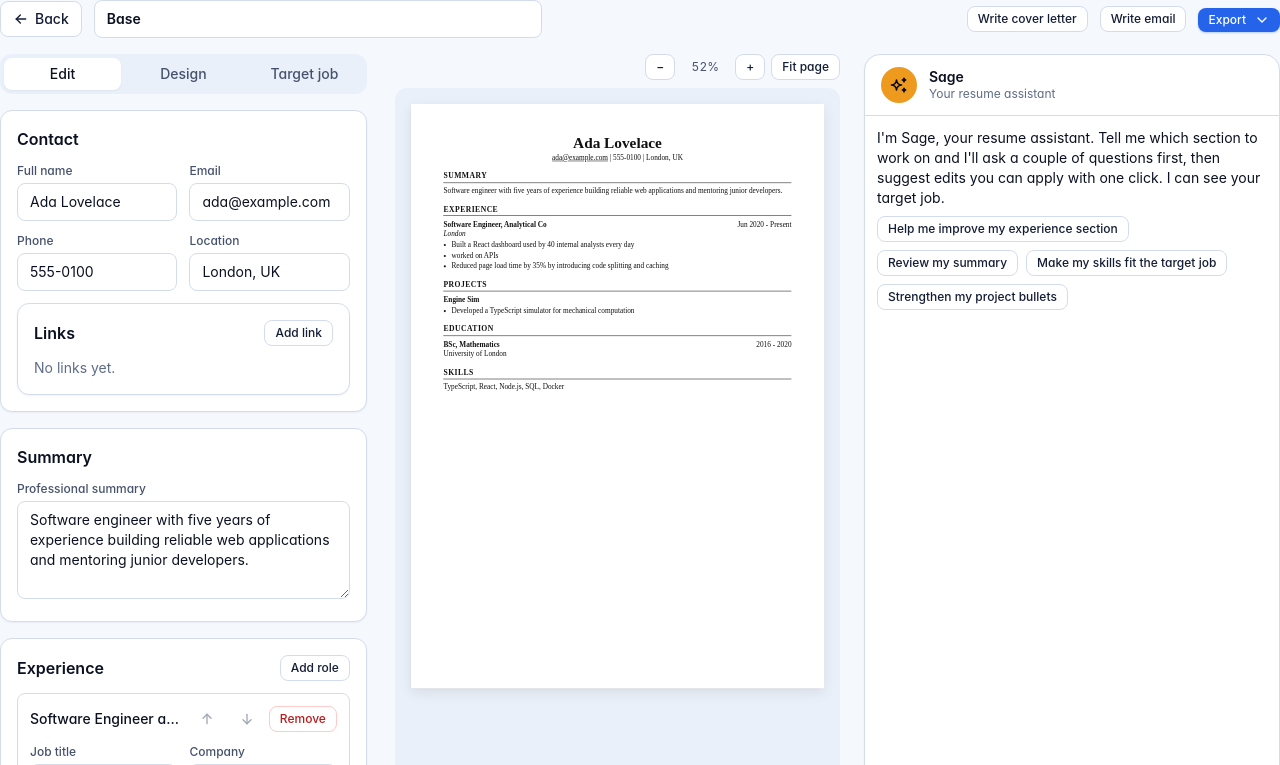
Scenario: target job tab › groups ATS analysis and Tailor under one Target job tab with a single job form
Expected: the button "Tailor" is not shown
Expected: the picture "ATS score" is not shown
Click the button "Target job" at (304, 74), box [246, 58, 363, 90]
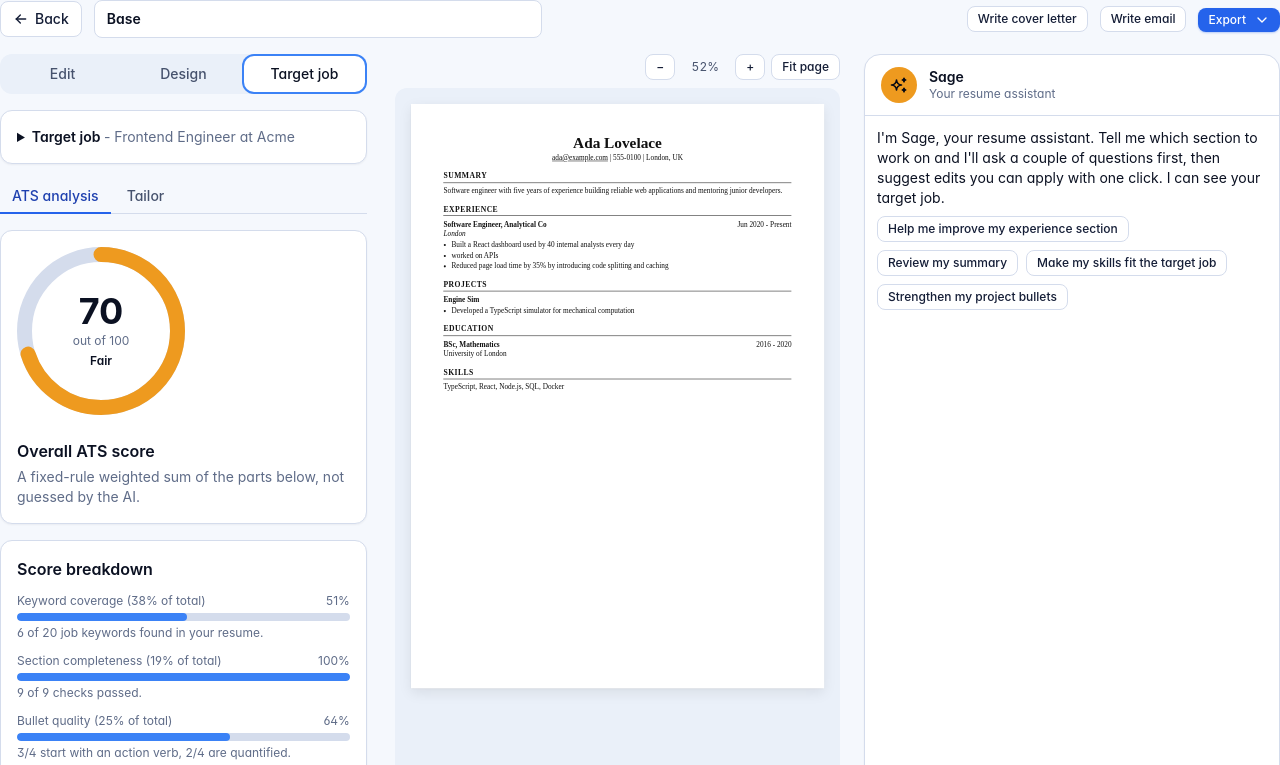
Click the button "Tailor" at (145, 197), box [115, 180, 176, 214]
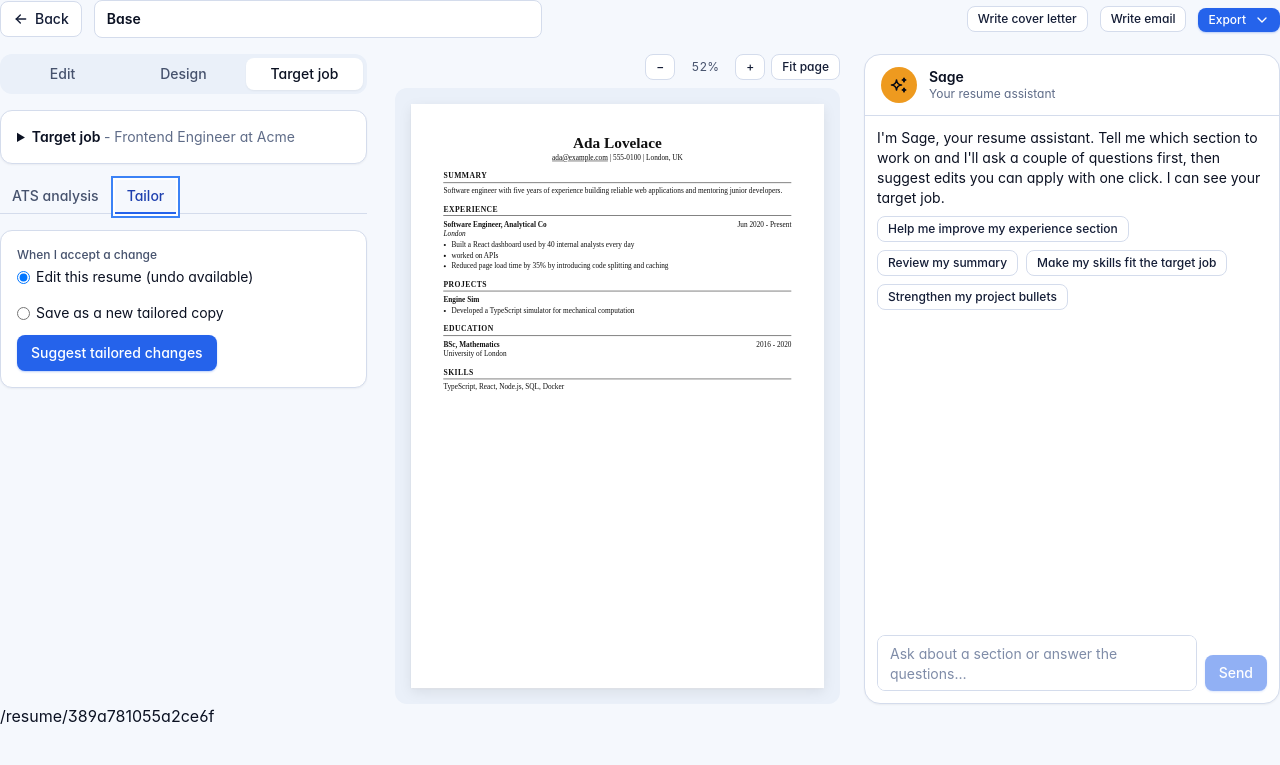
Click the button "ATS analysis" at (55, 197), box [0, 180, 111, 214]
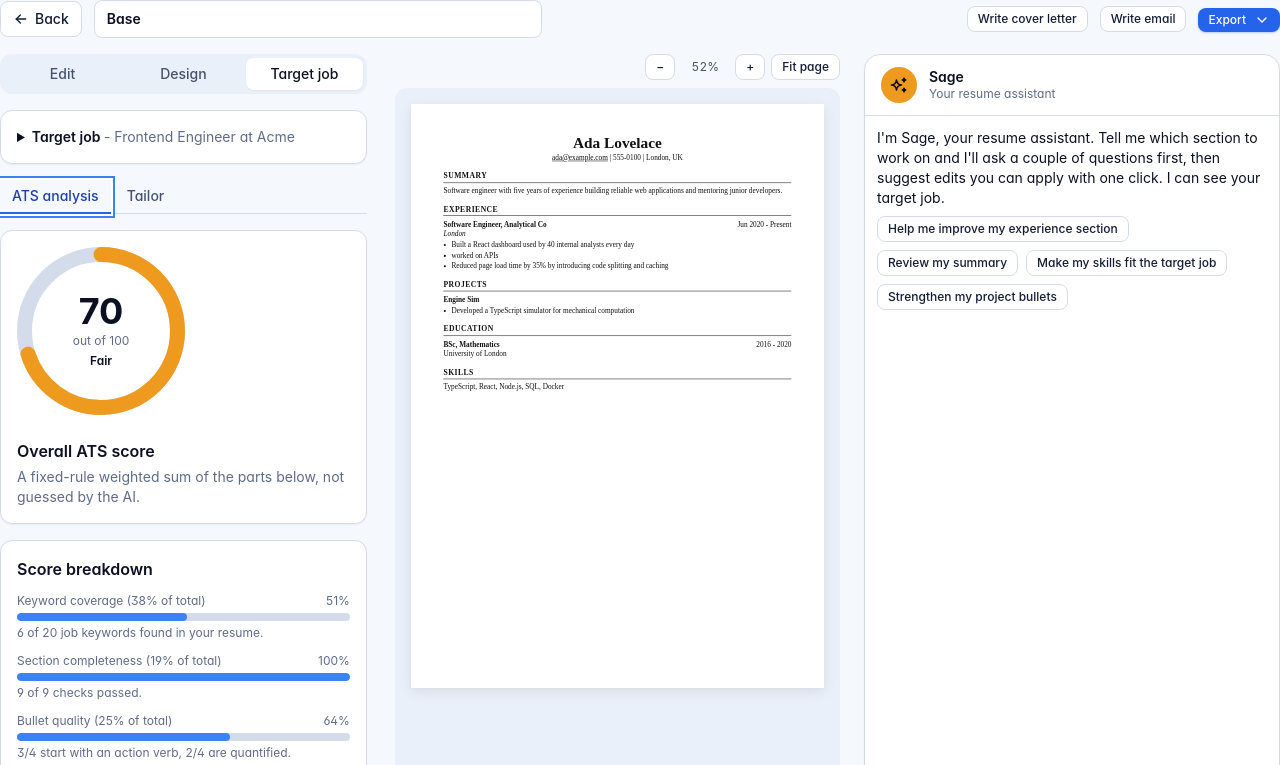
Result: the picture "70 out of 100 Fair" is shown at [17, 247, 185, 415]
